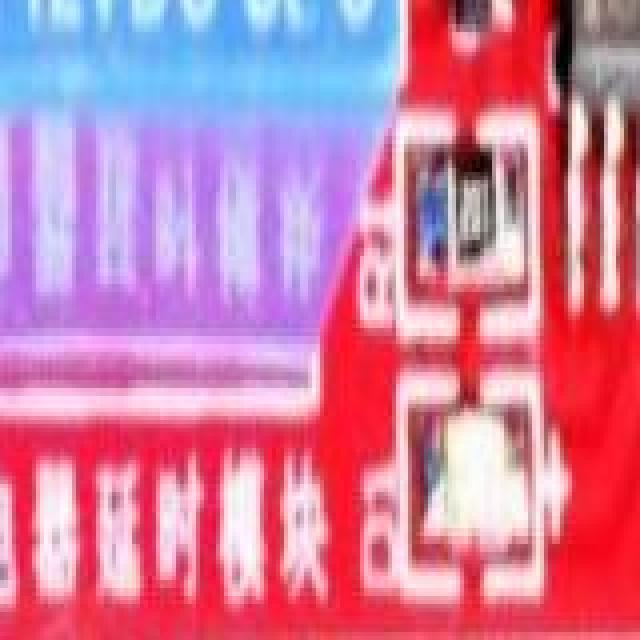IC: (548, 0, 640, 256)
LED: (424, 388, 536, 594)
relay: (0, 0, 408, 412)
resistor: (428, 140, 522, 280)
transistor: (440, 0, 508, 32)
